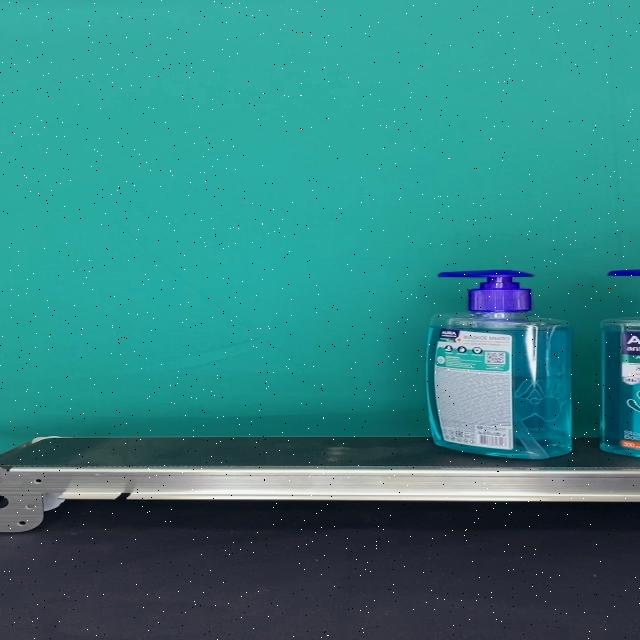Bottle: (425, 270, 573, 460)
Cap: (438, 270, 533, 312)
